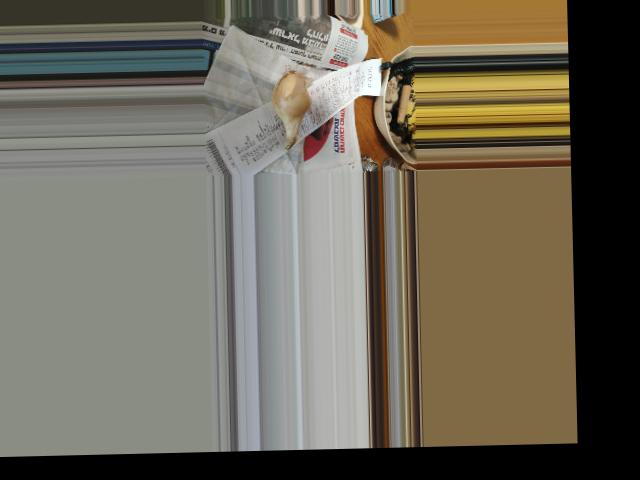onion: (275, 72, 309, 123)
